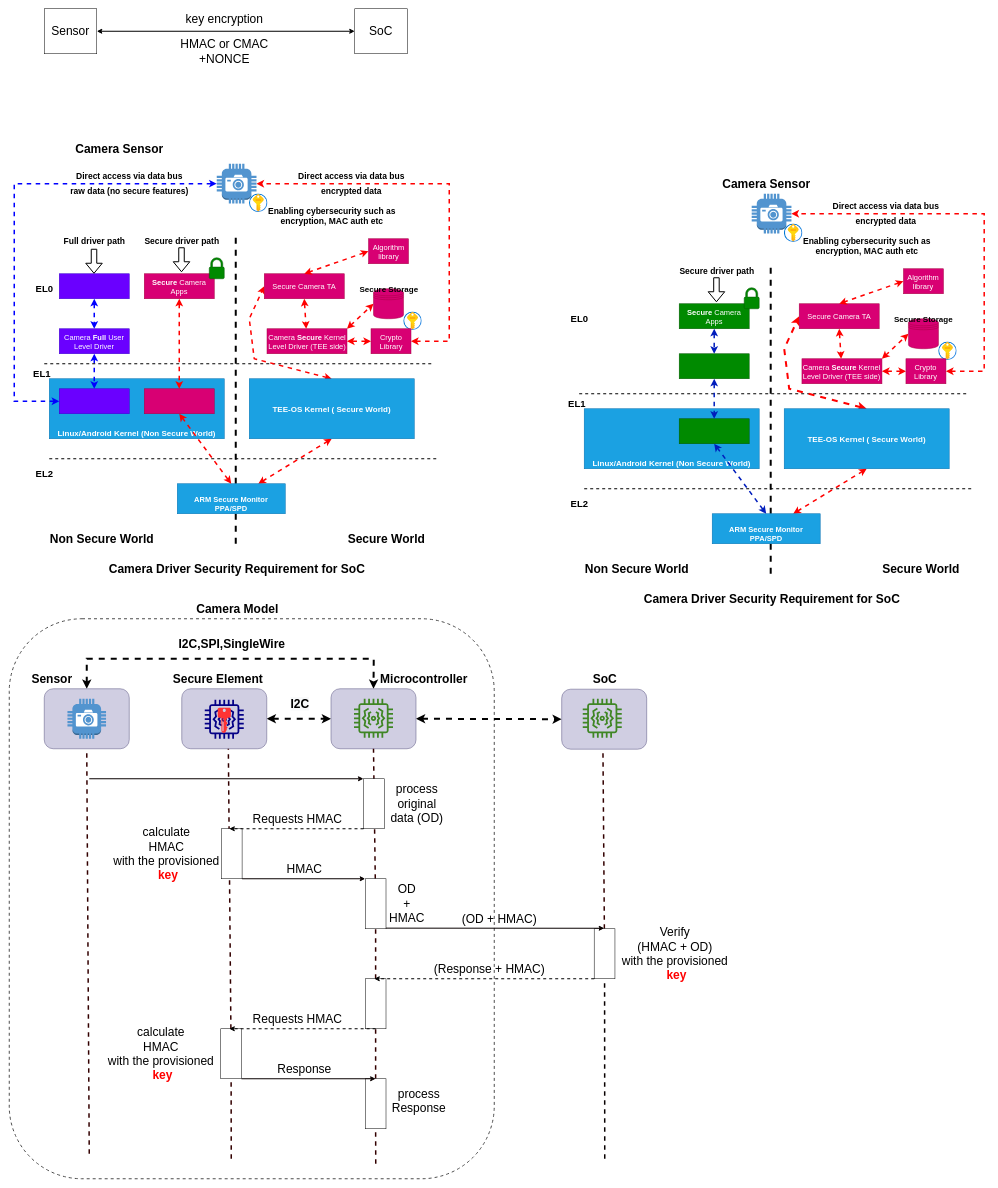
This 998x1188 diagram has some shape labels left out. The centre of each missing label's shape, as x and y in pixels:
Camera Full Kernel Level Driver: the point at 94,401
Camera Secure Driver Wrapper Layer: the point at 179,401
Common Camera Apps: the point at 94,286
TEE Driver: the point at 714,431
tee-supplicant: the point at 714,366
